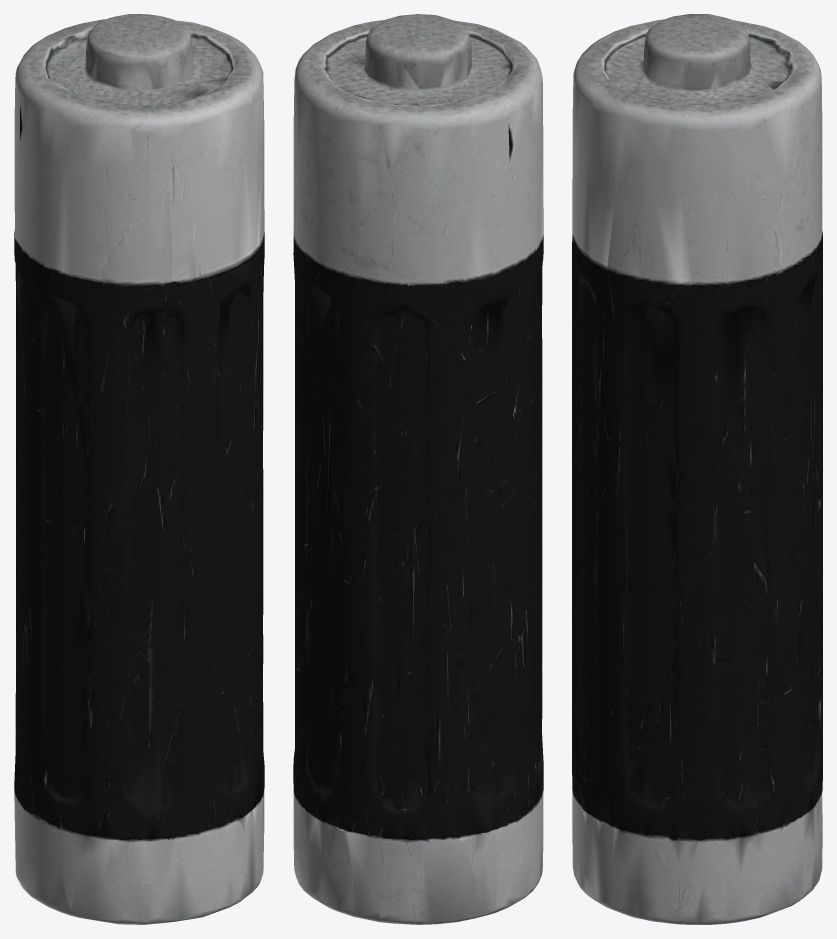
Rendered from pila.glb.
3 renders of one model, left to right at view 1: azimuth 30°, elevation 25°; view 2: azimuth 150°, elevation 25°; view 3: azimuth 270°, elevation 25°, orthographic.
Bounding box in the file's own units: 0.5116 × 1.9 × 0.5111.
1 material, 1 textured.
